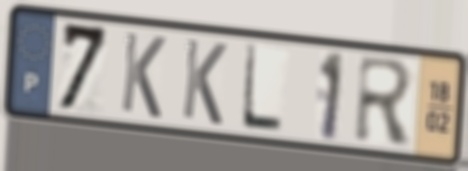1: (317, 49, 346, 145)
7: (55, 20, 111, 114)
K: (118, 28, 169, 122), (179, 35, 230, 129)
L: (238, 41, 286, 137)
R: (352, 52, 416, 148)
